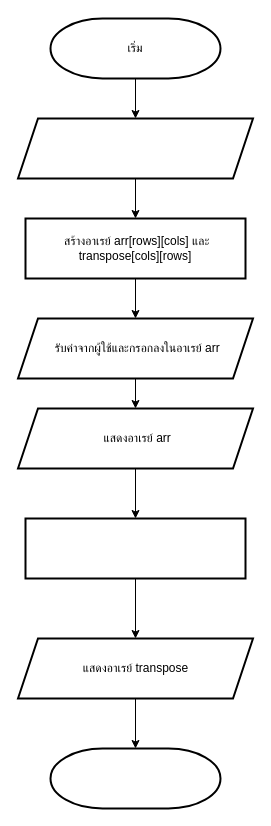
The diagram is 271 pixels wide and 826 high, and some of its shapes have lost their labels. The shapes that lost their labels are listed below. From the top down, each one's centre as x and y in pixels, then its label:
At (135,148): "รับจำนวนแถวและคอลัมน์จากผู้ใช้".
At (135,548): "ทำการ Transpose อาเรย์".
At (135,778): "จบ".
